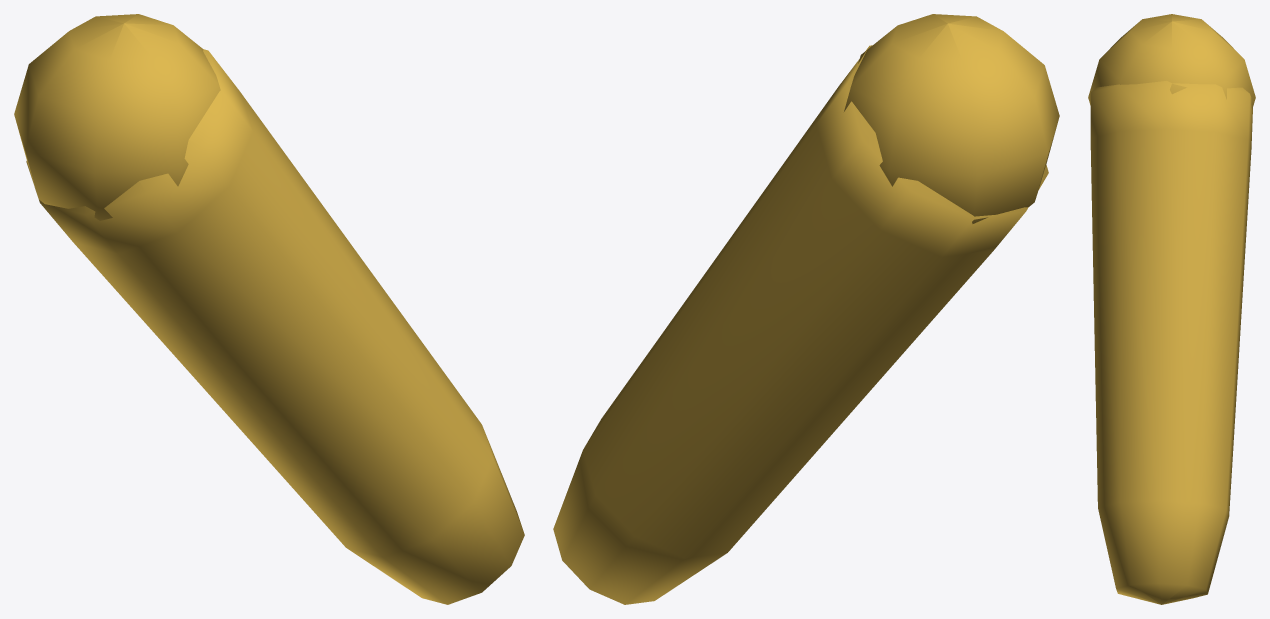
File: upperarm_L.obj
3 renders of one model, left to right at view 1: azimuth 30°, elevation 25°; view 2: azimuth 150°, elevation 25°; view 3: azimuth 270°, elevation 25°, orthographic. The views are drawn at different scales.
Visible parts, largest first — view 1: upperarm_L; view 2: upperarm_L; view 3: upperarm_L.
Boxes of the visible parts, left/top/right/bottom form: upperarm_L: left=14, top=14, right=524, bottom=604; upperarm_L: left=553, top=14, right=1059, bottom=604; upperarm_L: left=1088, top=14, right=1255, bottom=604.
Bounding box in the file's own units: 0.1744 × 0.2219 × 0.0713.
